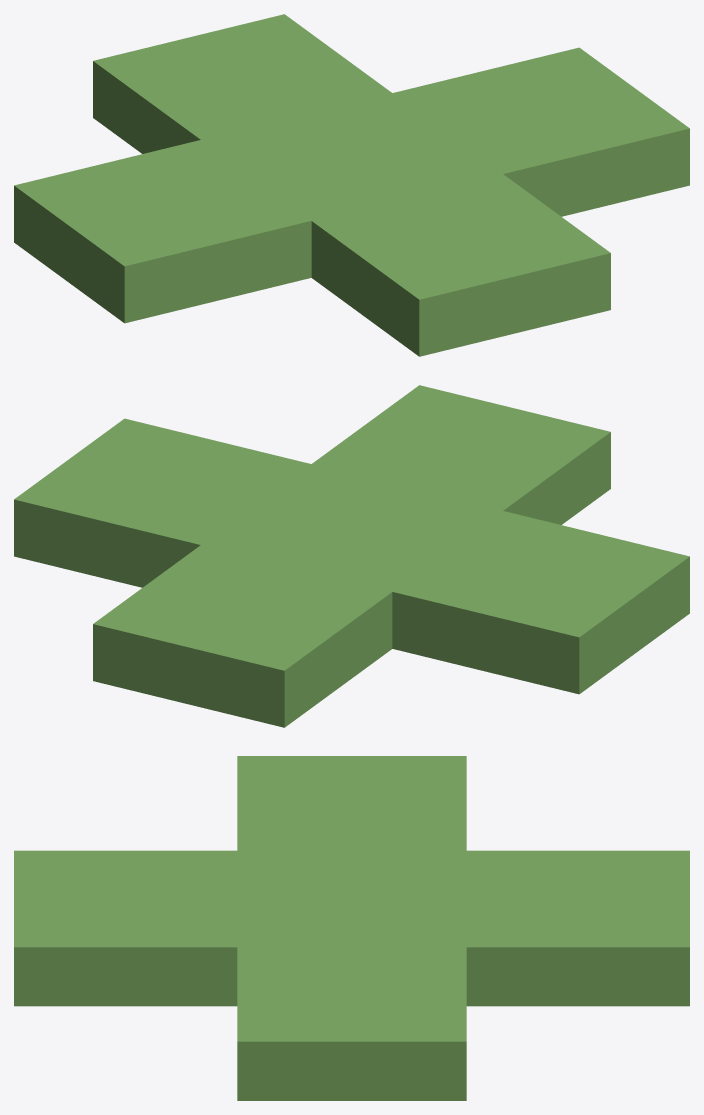
File: recovery.fbx
The picture shows the model from 3 angles, top to bottom: view 1: azimuth 30°, elevation 25°; view 2: azimuth 150°, elevation 25°; view 3: azimuth 270°, elevation 25°; orthographic projection. The views are drawn at different scales.
Parts seen in each view (by area): view 1: CureModel; view 2: CureModel; view 3: CureModel.
Boxes of the visible parts, box(x1,y1,x2,y2) form: CureModel: box(14, 14, 689, 356); CureModel: box(14, 385, 689, 727); CureModel: box(14, 756, 689, 1100).
Size of the model in its own units: 1.5 by 0.1446 by 1.5.
